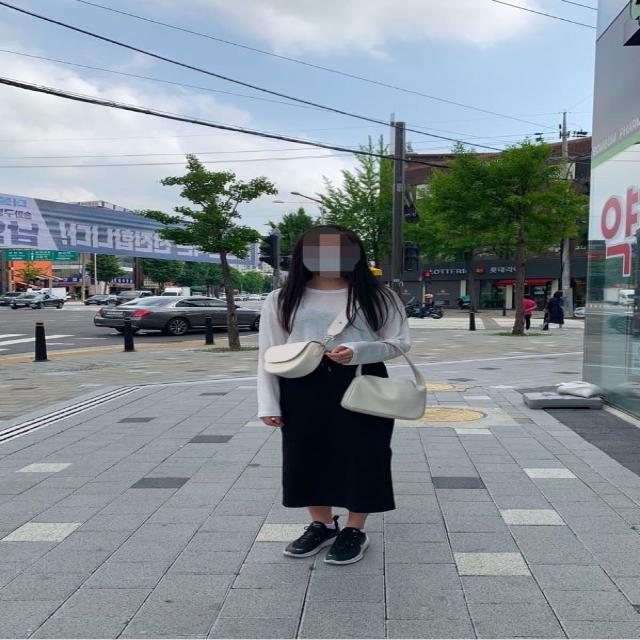longsleeve: (259, 277, 411, 413)
skirt: (279, 356, 395, 516)
